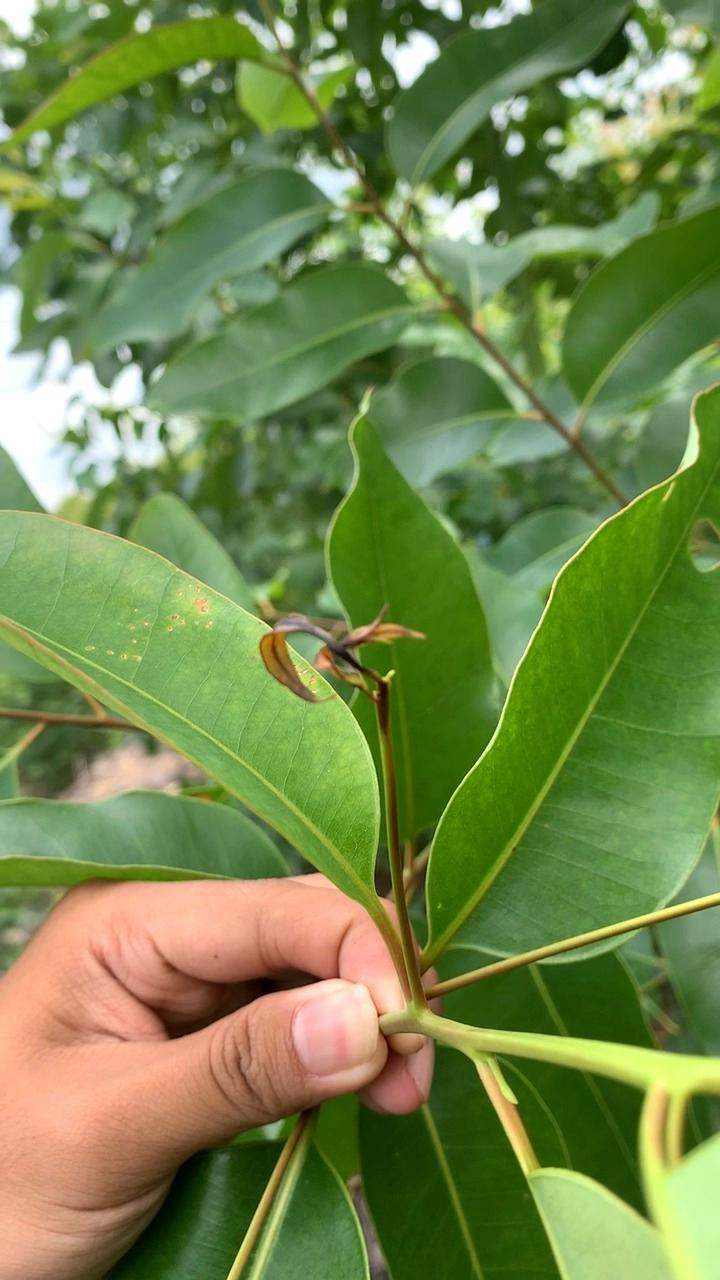Helopeltis-Withered Sprout: (256, 603, 427, 703)
